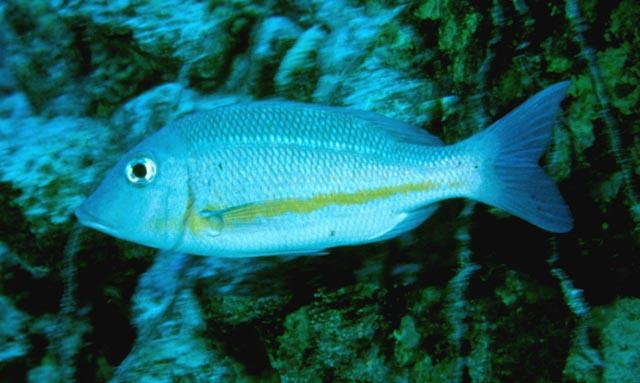Mulut: (61, 187, 123, 245)
Sirip Anal: (356, 190, 456, 254)
Sirip Dada: (194, 193, 278, 247)
Sirip Ekor: (462, 64, 590, 246)
Sirip Perut: (254, 230, 342, 274)
Sirip Punggung: (346, 100, 450, 160)
